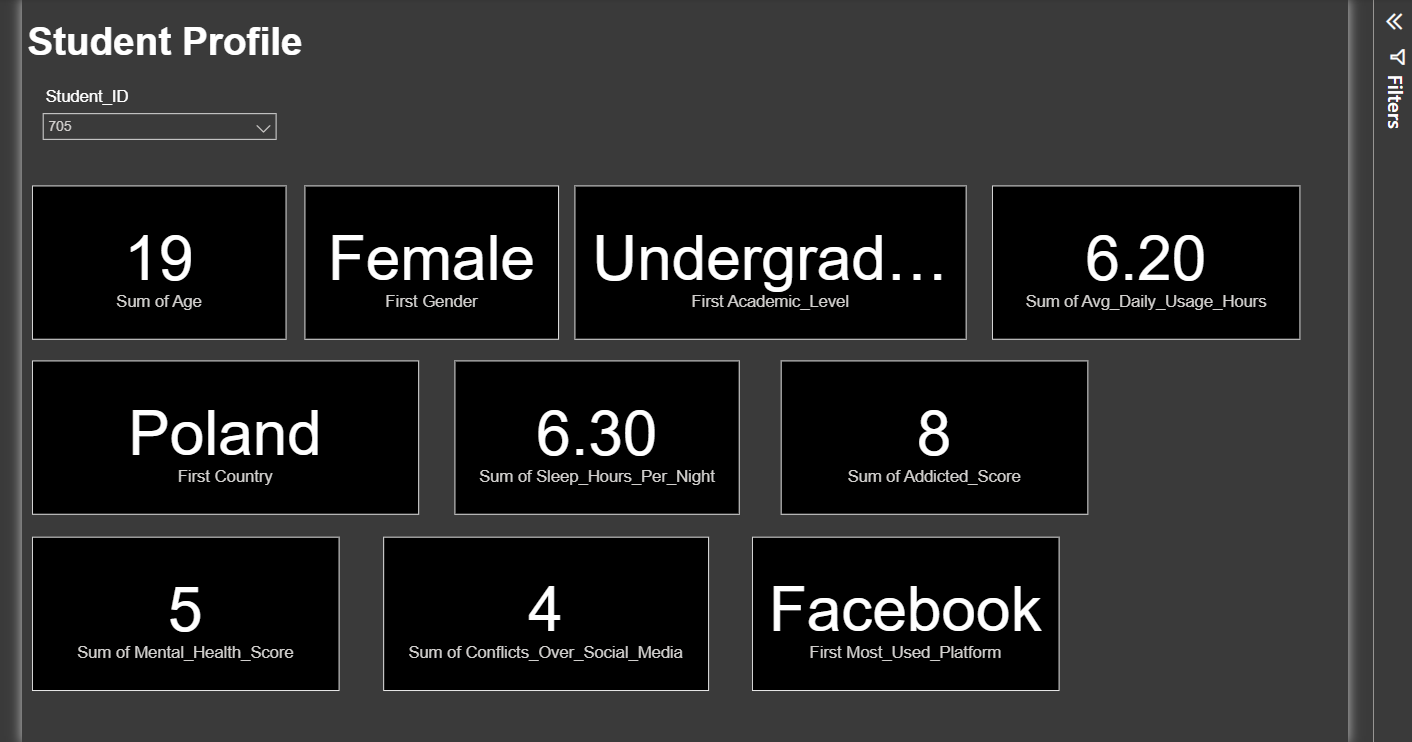

What the dashboard file says about the page in this screenshot:
{"tool":"powerbi","page":{"name":"Student Profile","canvas":[1280,720],"ordinal":5},"visuals":[{"type":"card","fields":{"Values":["Sum(Student Details.Age)"]},"box":[9.9,181.2,245.8,149],"z":0},{"type":"card","fields":{"Values":["Min(Student Details.Gender)"]},"box":[273.1,181.2,245.8,149],"z":1000},{"type":"card","fields":{"Values":["Min(Student Details.Academic_Level)"]},"box":[533.8,181.2,378.6,149],"z":2000},{"type":"card","fields":{"Values":["Min(Student Details.Country)"]},"box":[9.9,350,373.6,149],"z":3000},{"type":"card","fields":{"Values":["Sum(Student Details.Sleep_Hours_Per_Night)"]},"box":[417.1,350,275.6,149],"z":4000},{"type":"card","fields":{"Values":["Sum(Platform Details.Avg_Daily_Usage_Hours)"]},"box":[935.9,181.2,297.9,149],"z":5000},{"type":"card","fields":{"Values":["Sum(Student Details.Addicted_Score)"]},"box":[732.4,350,296.7,149],"z":6000},{"type":"card","fields":{"Values":["Sum(Student Details.Mental_Health_Score)"]},"box":[9.9,520.1,296.7,149],"z":7000},{"type":"card","fields":{"Values":["Sum(Student Details.Conflicts_Over_Social_Media)"]},"box":[348.8,520.1,314,149],"z":8000},{"type":"card","fields":{"Values":["Min(Platform Details.Most_Used_Platform)"]},"box":[705.1,520.1,296.7,149],"z":9000},{"type":"slicer","fields":{"Values":["Student Details.Student_ID"]},"box":[9.9,80.7,245.8,73.2],"z":10000},{"type":"textbox","box":[0,16.1,559.8,64.5],"z":11000}]}

Visuals, with their boxes on the page's 1280x720 design canvas (x1, y1, x2, y2). These are canvas units, not pixel positions in the 1412x742 screenshot, which may show the page scaled, cropped or inside an application window:
card - Sum(Student Details.Age): (left=10, top=181, right=256, bottom=330)
card - Min(Student Details.Gender): (left=273, top=181, right=519, bottom=330)
card - Min(Student Details.Academic_Level): (left=534, top=181, right=912, bottom=330)
card - Min(Student Details.Country): (left=10, top=350, right=384, bottom=499)
card - Sum(Student Details.Sleep_Hours_Per_Night): (left=417, top=350, right=693, bottom=499)
card - Sum(Platform Details.Avg_Daily_Usage_Hours): (left=936, top=181, right=1234, bottom=330)
card - Sum(Student Details.Addicted_Score): (left=732, top=350, right=1029, bottom=499)
card - Sum(Student Details.Mental_Health_Score): (left=10, top=520, right=307, bottom=669)
card - Sum(Student Details.Conflicts_Over_Social_Media): (left=349, top=520, right=663, bottom=669)
card - Min(Platform Details.Most_Used_Platform): (left=705, top=520, right=1002, bottom=669)
slicer - Student Details.Student_ID: (left=10, top=81, right=256, bottom=154)
textbox: (left=0, top=16, right=560, bottom=81)
